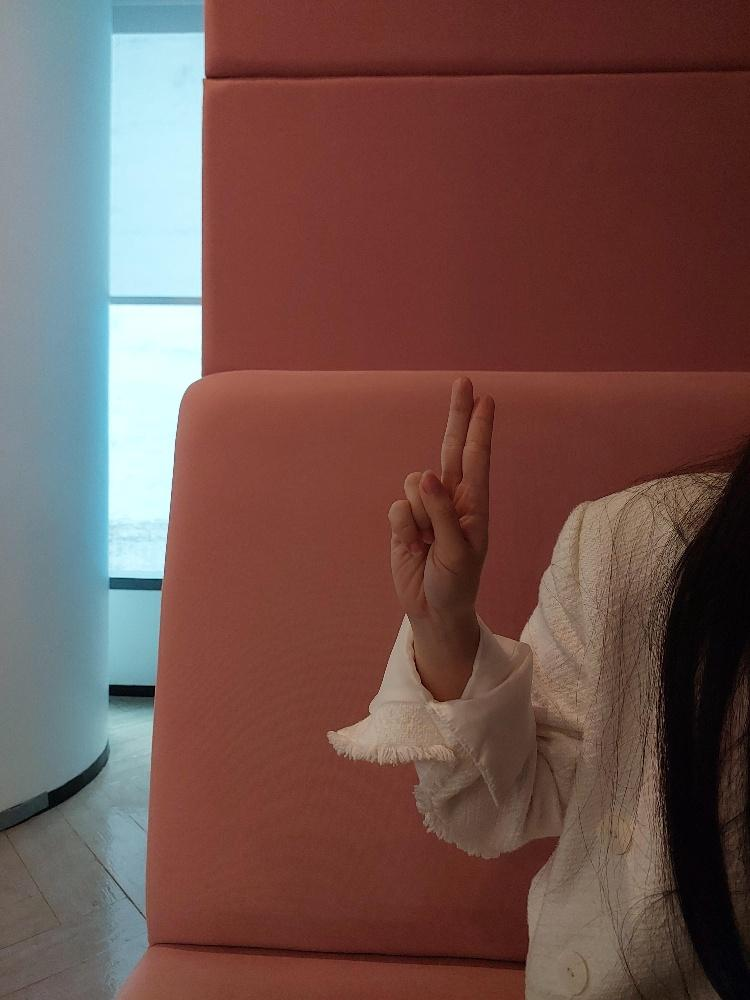u: (387, 375, 495, 612)
